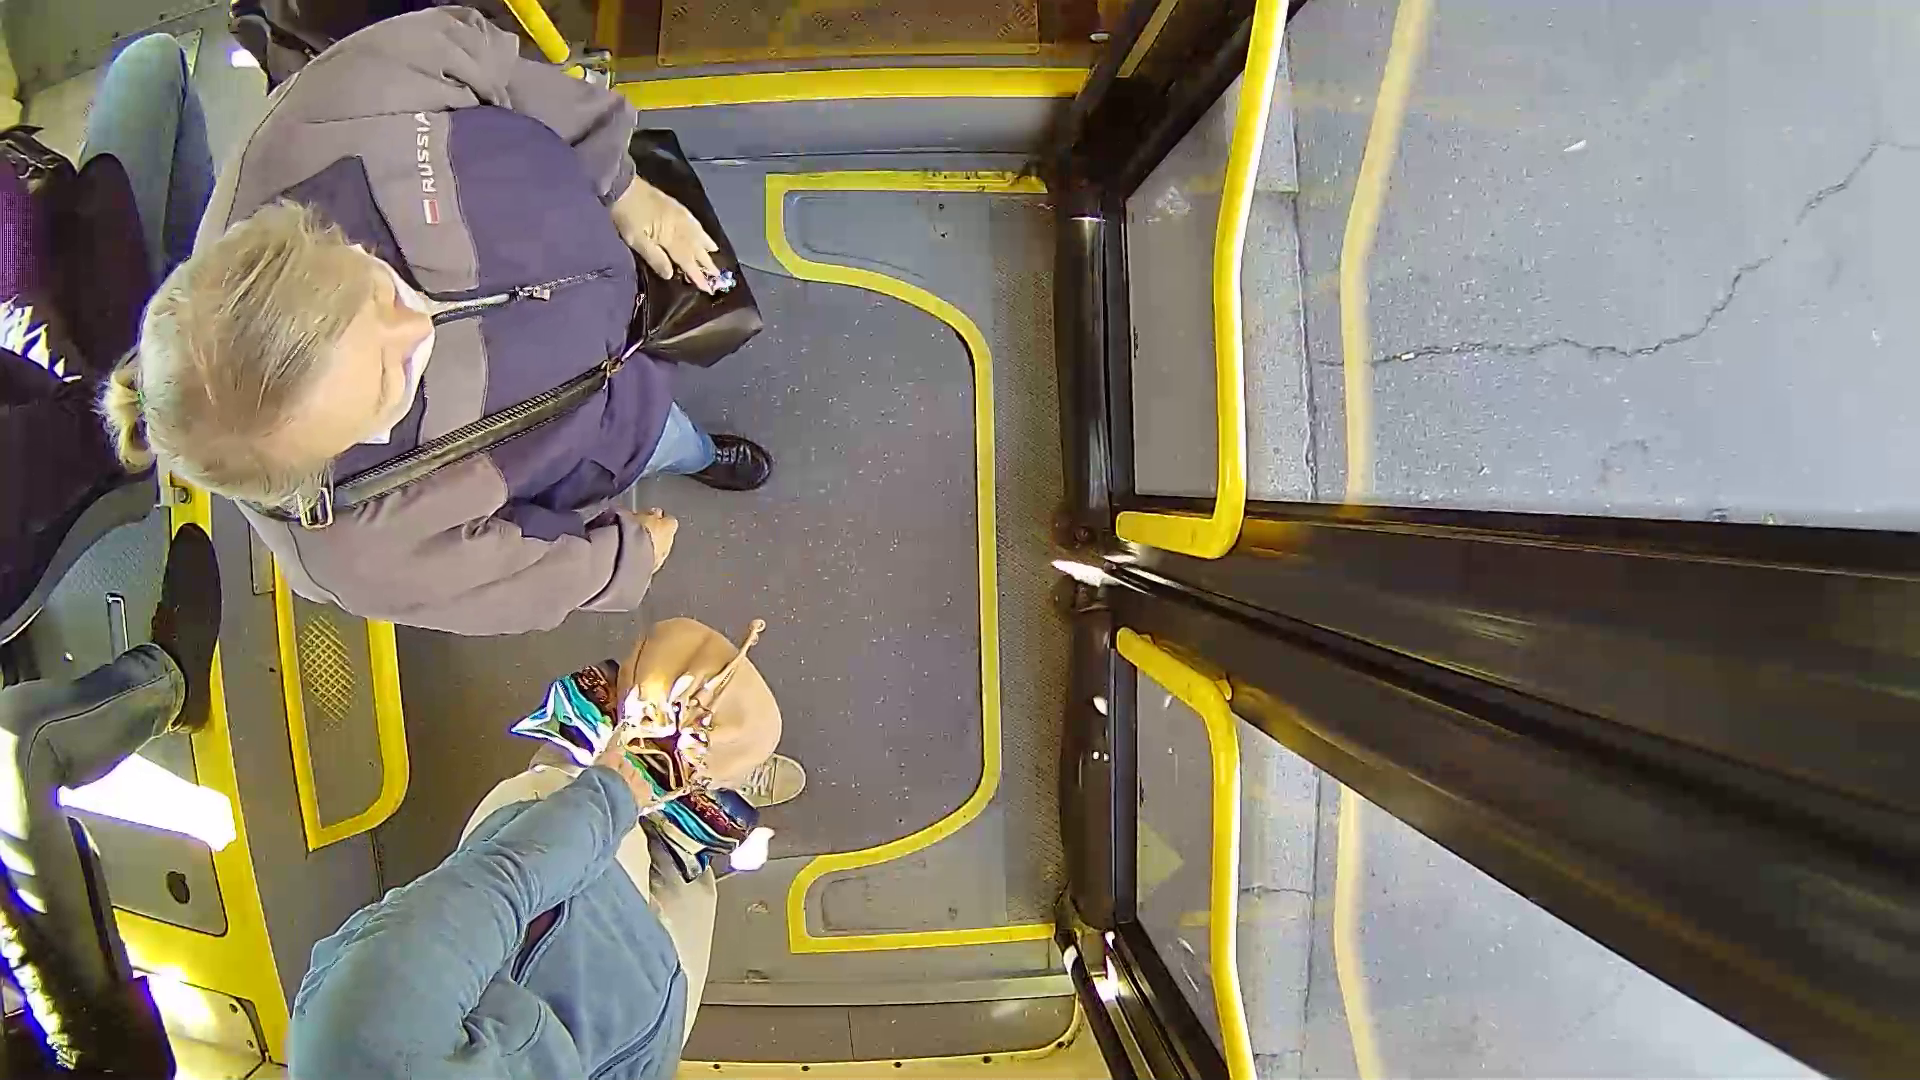person: (148, 23, 968, 659), (265, 628, 828, 1027)
